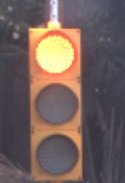Red: (22, 16, 83, 183)
